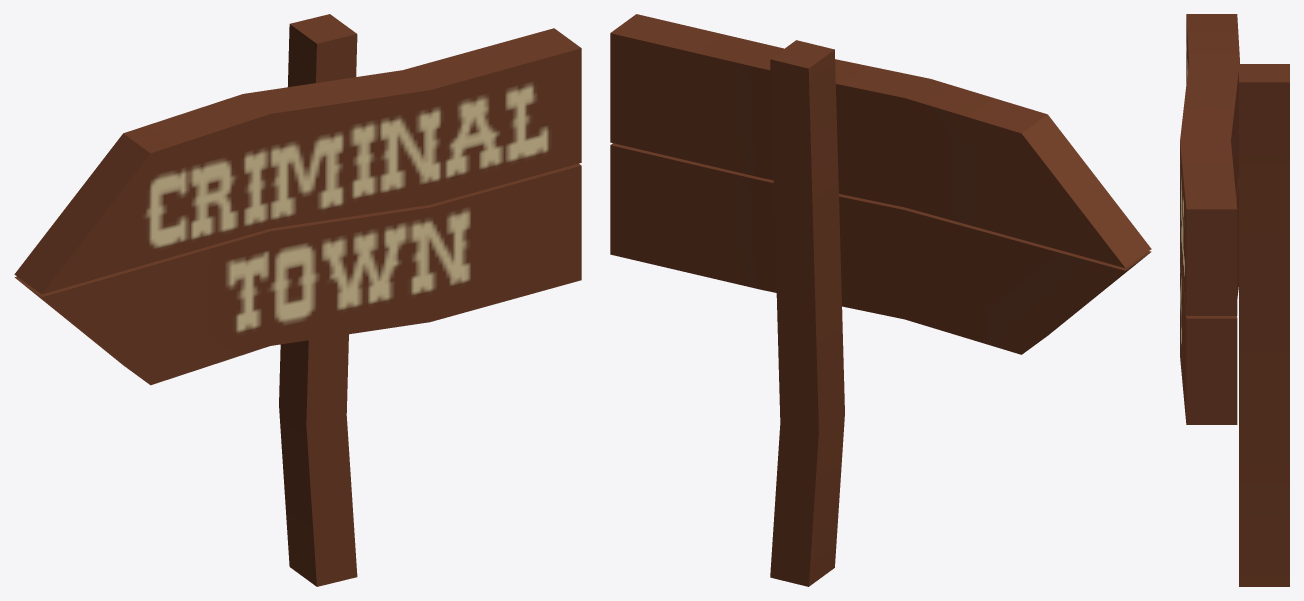
File: sign.glb
The picture shows the model from 3 angles, left to right: view 1: azimuth 30°, elevation 25°; view 2: azimuth 150°, elevation 25°; view 3: azimuth 270°, elevation 25°; orthographic projection. The views are drawn at different scales.
Parts seen in each view (by area): view 1: Cube; view 2: Cube; view 3: Cube.
Part boxes in pixels (x1=…): Cube: x1=14, y1=14, x2=581, y2=586; Cube: x1=610, y1=14, x2=1151, y2=586; Cube: x1=1180, y1=14, x2=1289, y2=586.
Bounding box in the file's own units: 2.51 × 2.41 × 0.4756.
1 material, 1 textured.
